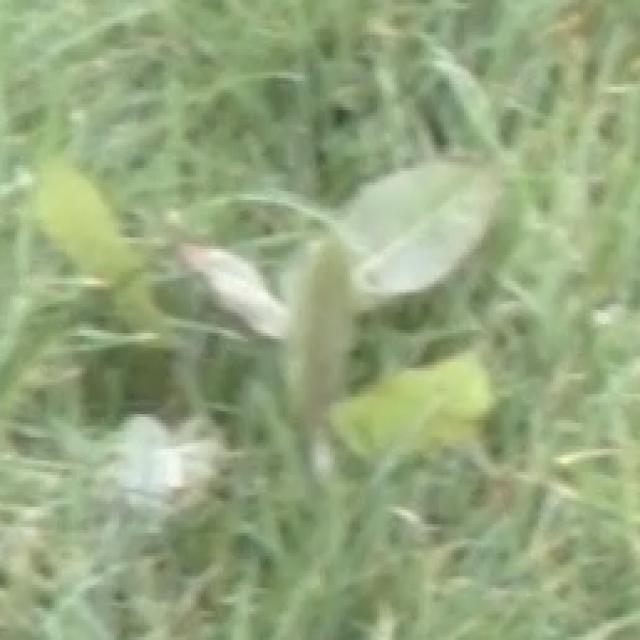organic waste: (21, 124, 624, 472)
